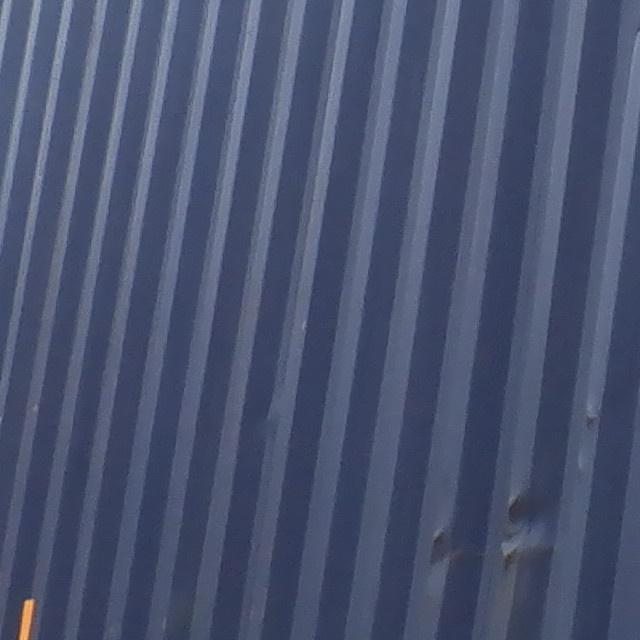dent: (480, 494, 565, 566), (425, 529, 465, 583)
